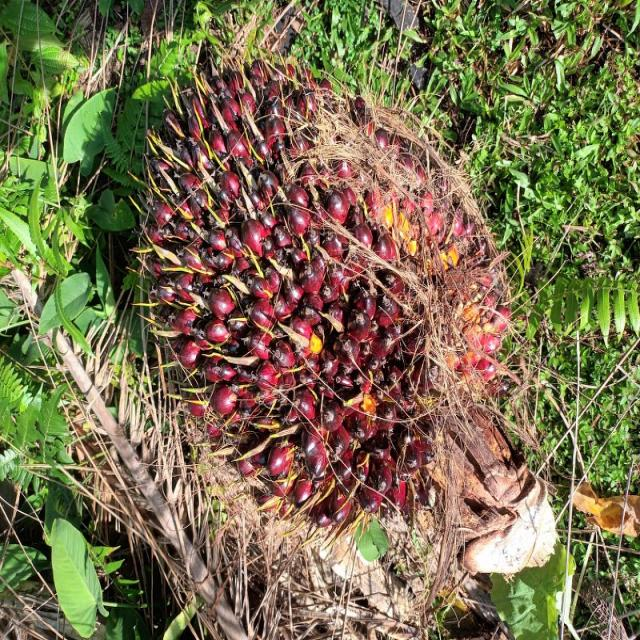fraksi 1: (41, 74, 465, 640)
